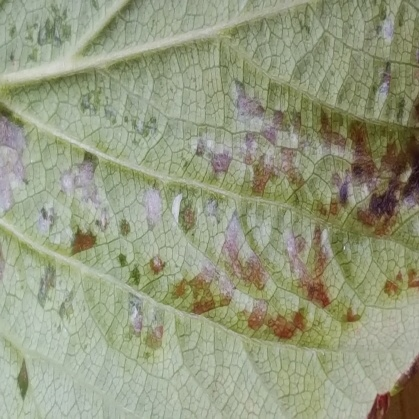Angular_LS: (0, 2, 418, 418)
